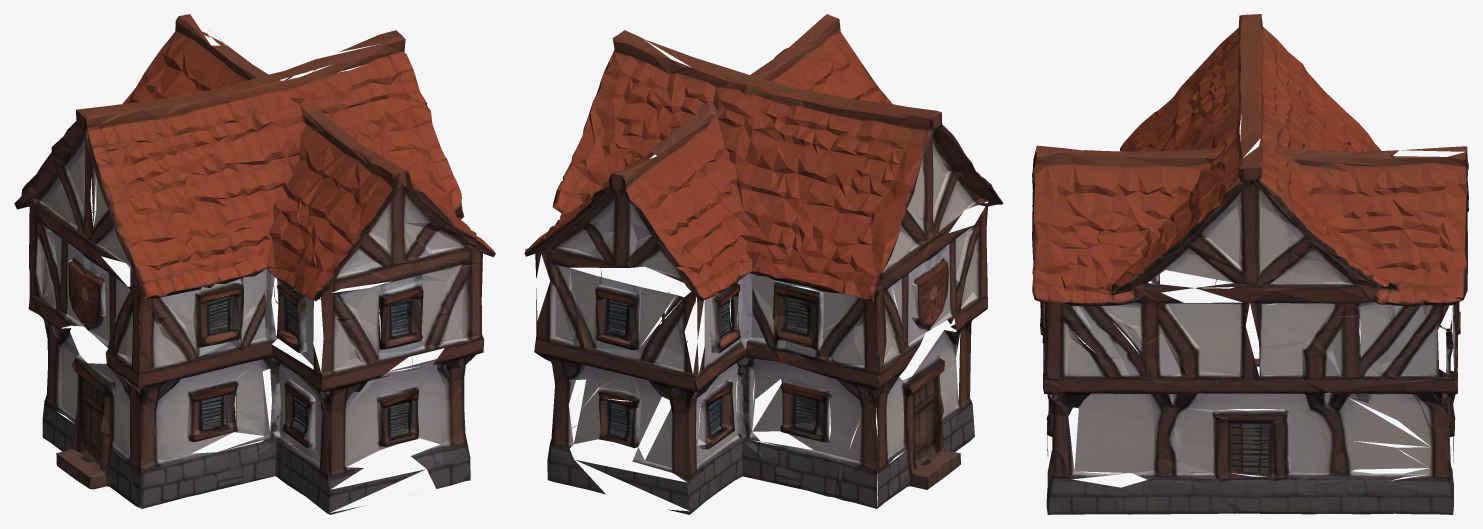
The model's file is house_a.glb.
3 renders of one model, left to right at view 1: azimuth 30°, elevation 25°; view 2: azimuth 150°, elevation 25°; view 3: azimuth 270°, elevation 25°, orthographic.
Parts seen in each view (by area): view 1: geometry_0; view 2: geometry_0; view 3: geometry_0.
Boxes of the visible parts, x1,y1,x2,y2 form: geometry_0: (14, 14, 495, 514); geometry_0: (524, 14, 1003, 514); geometry_0: (1032, 14, 1468, 514).
Size of the model in its own units: 2.7 by 2.87 by 3.1.
1 material, 1 textured.
